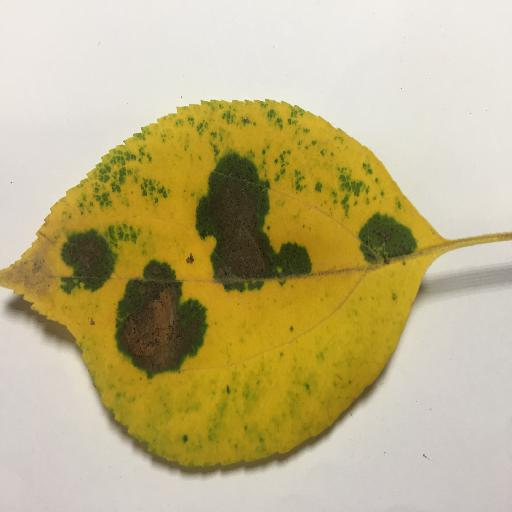Brown_Spot: (188, 168, 269, 273), (126, 286, 191, 372), (64, 238, 111, 276)
